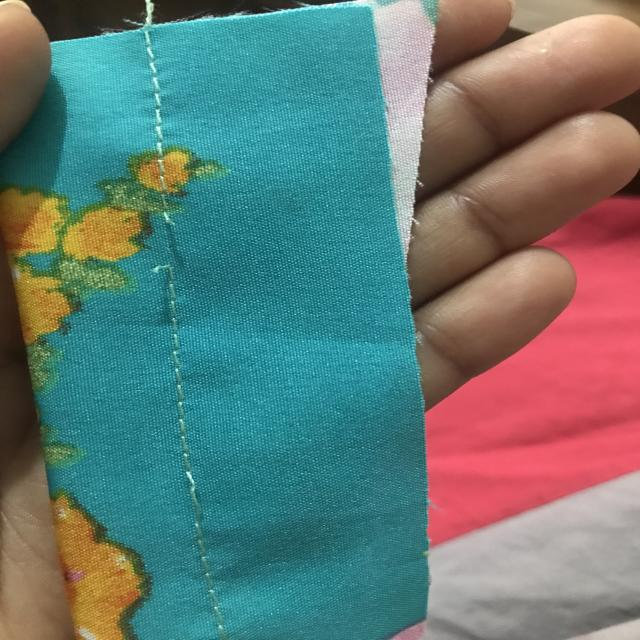broken: (124, 201, 208, 281)
skip: (167, 462, 225, 526)
